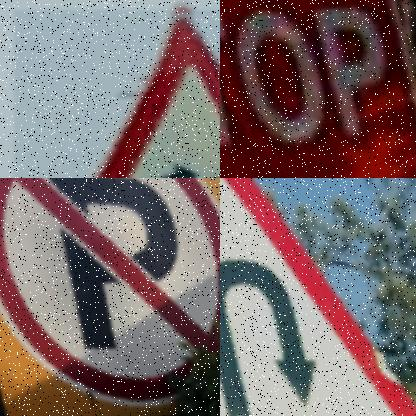No Parking: (0, 178, 220, 416)
Roundabout Ahead: (87, 11, 220, 178)
Stop 2: (220, 0, 416, 178)
U-Turn: (220, 178, 416, 416)
